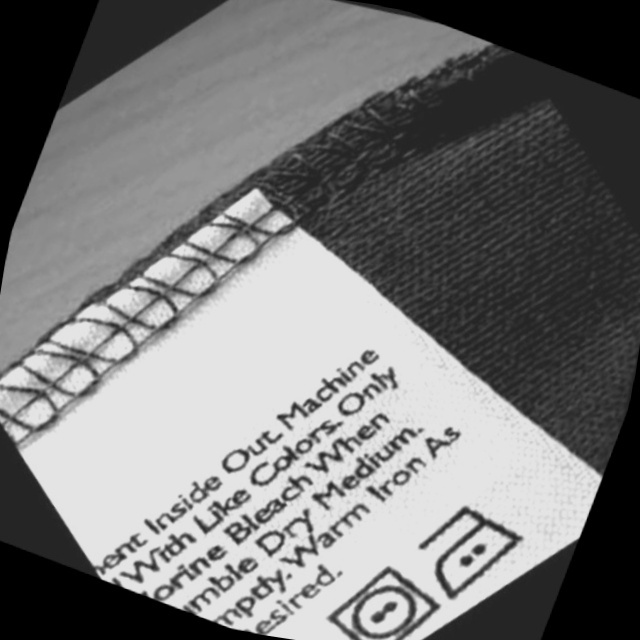iron_medium: (393, 477, 553, 630)
tumble_dry_medium: (310, 537, 467, 640)
